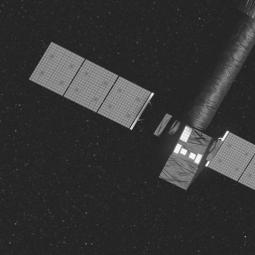xmm_newton: (109, 0, 255, 190)
